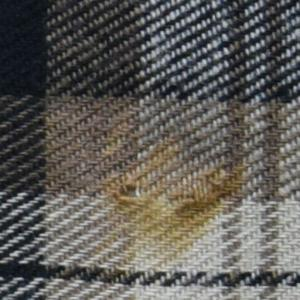Damage: (110, 174, 247, 214)
Oil Stain: (83, 126, 255, 280)
